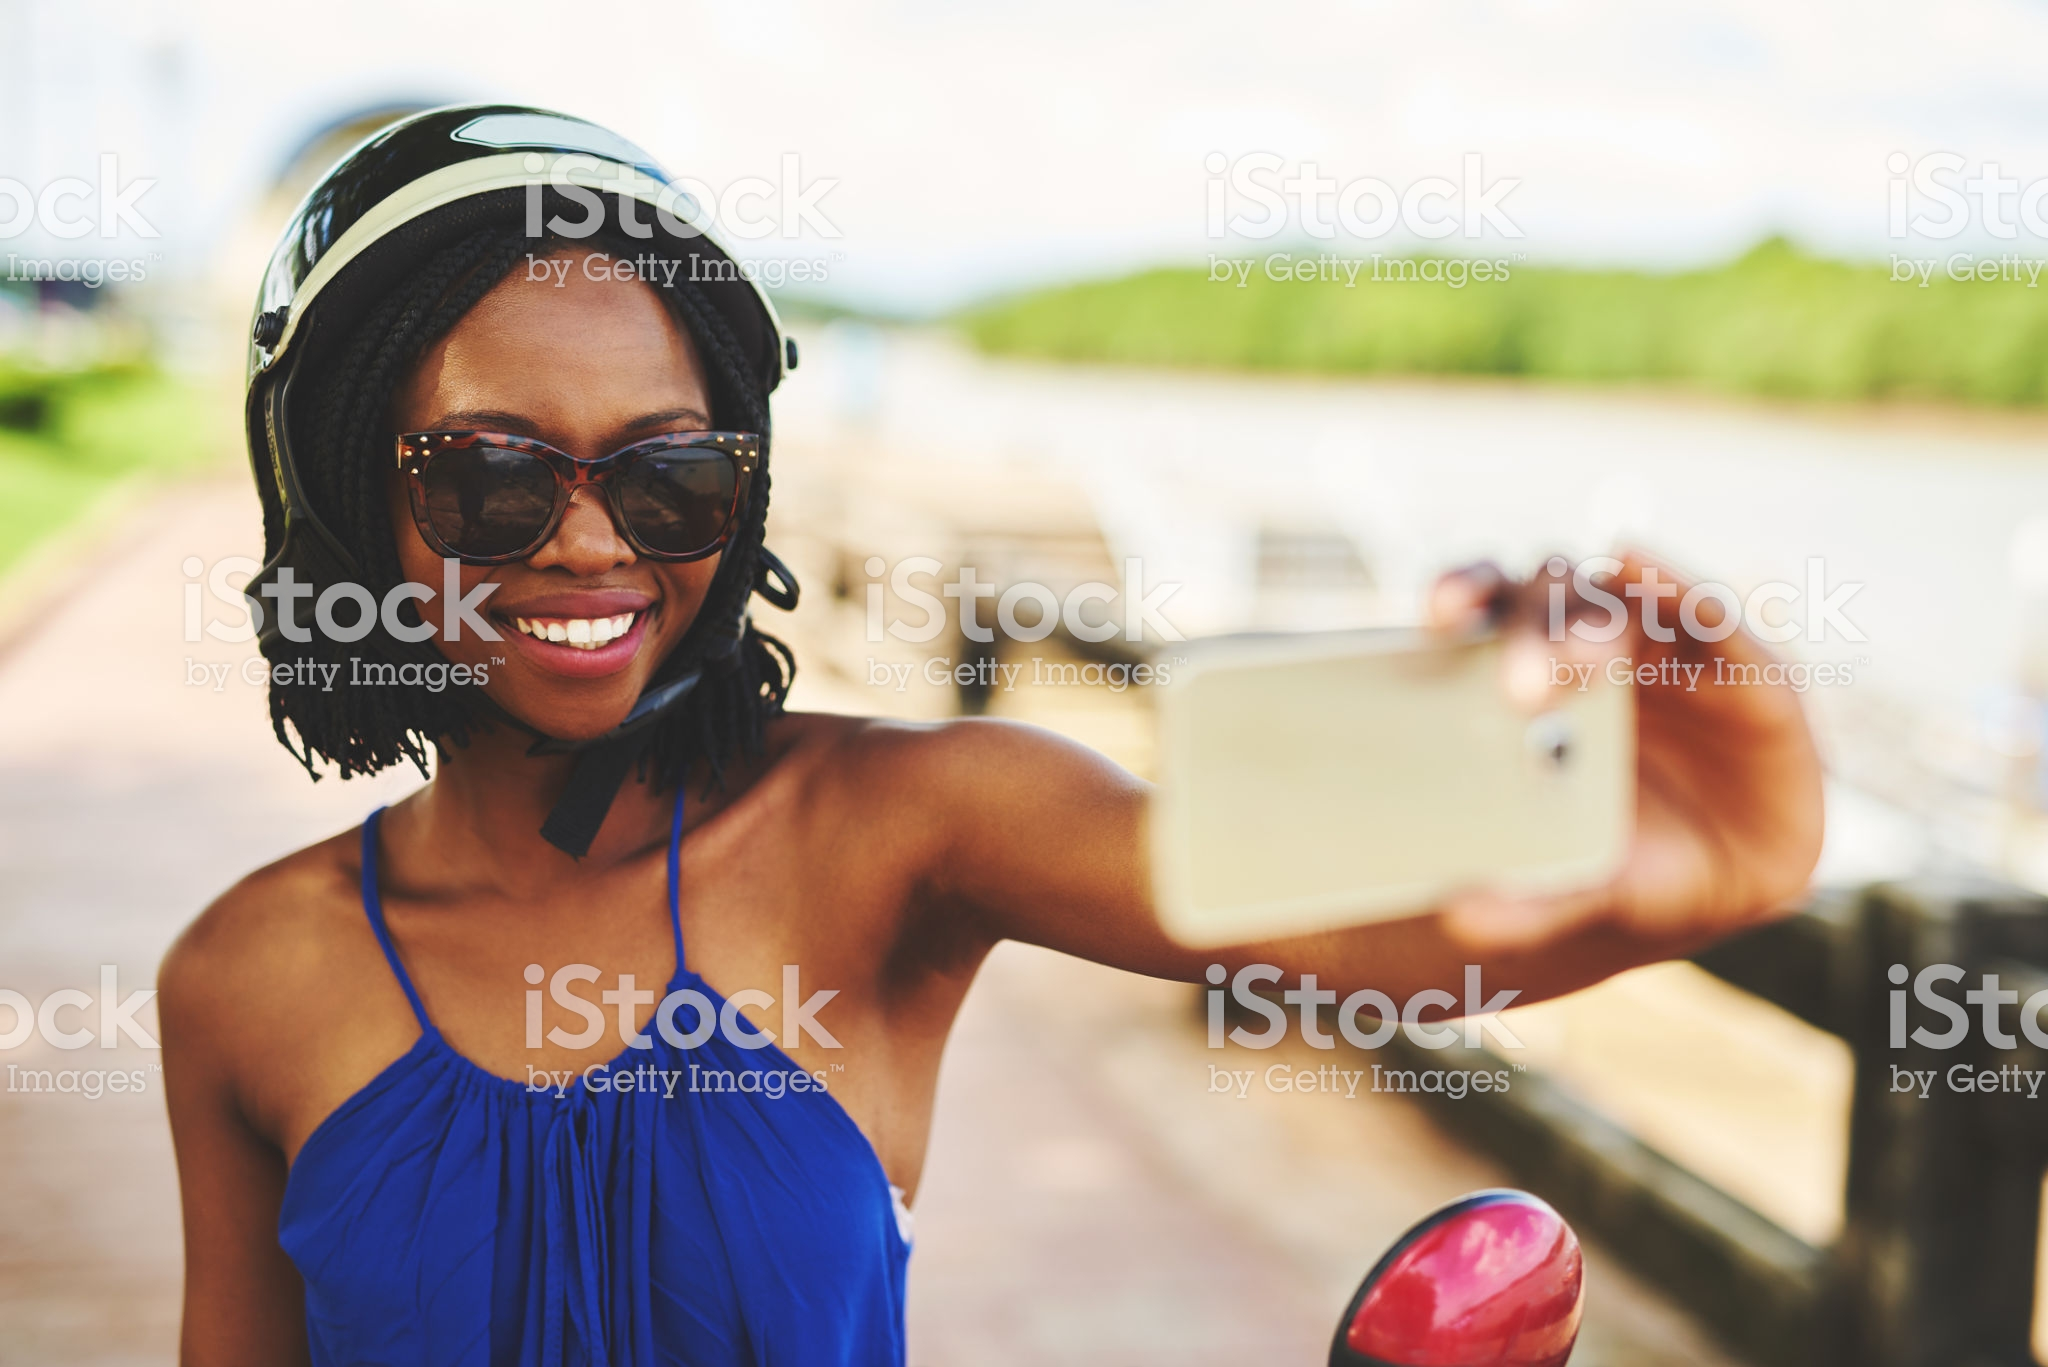helmet: (201, 134, 796, 395)
